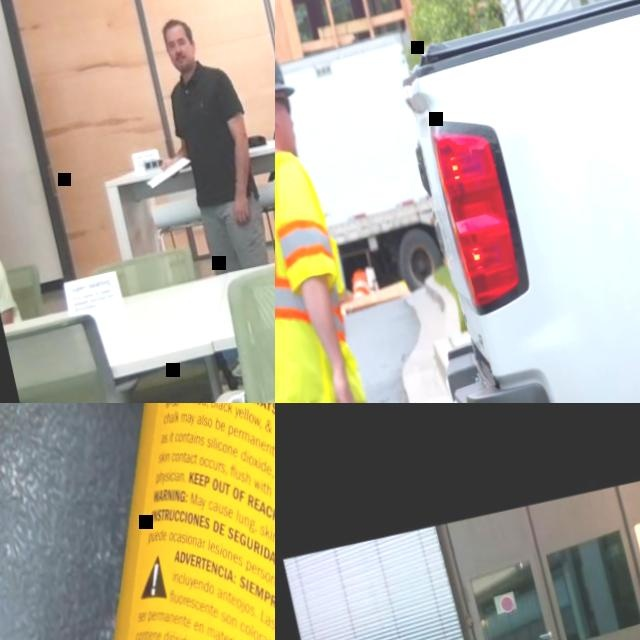Hardhat: (275, 29, 297, 113)
NO-Hardhat: (159, 15, 191, 42)
NO-Mask: (275, 115, 299, 161), (169, 47, 197, 74)
NO-Safety Vest: (163, 61, 262, 214), (0, 236, 17, 325)
Person: (275, 27, 405, 403), (132, 8, 275, 279), (0, 230, 20, 324)
Safety Cone: (347, 269, 369, 298)
Safety Vest: (275, 136, 373, 403)
vehicle: (313, 0, 640, 403)
